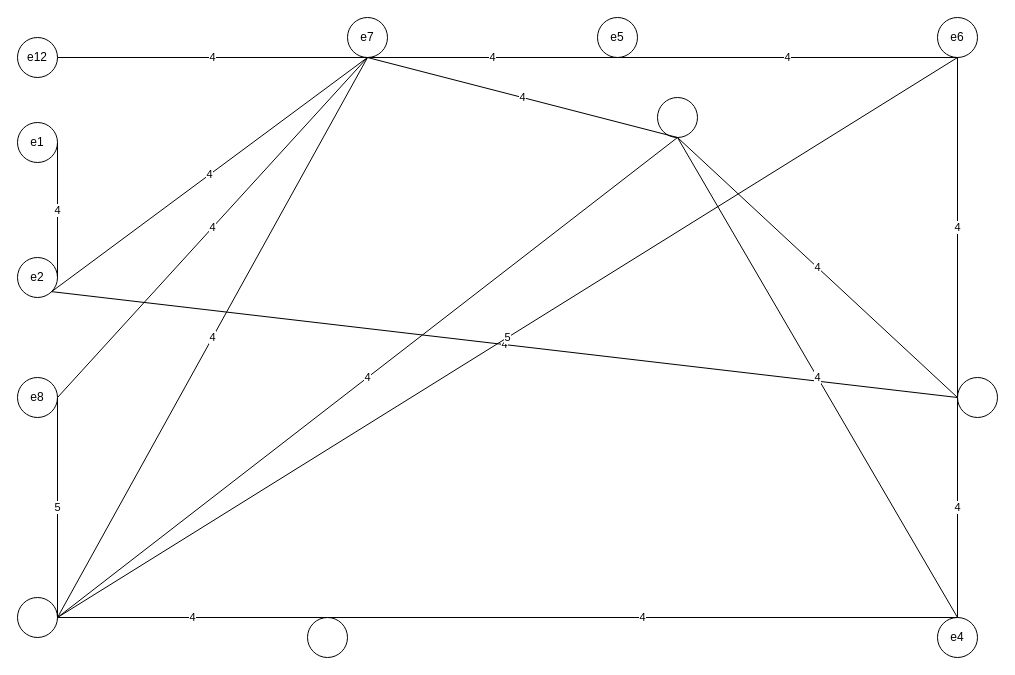
This 1015x675 diagram has some shape labels left out. Here are the shapes that lost their labels. From the top down, the centre of each, then its label:
At point (677, 117): "e3".
At point (977, 397): "e9".
At point (37, 617): "e11".
At point (327, 637): "e10".
